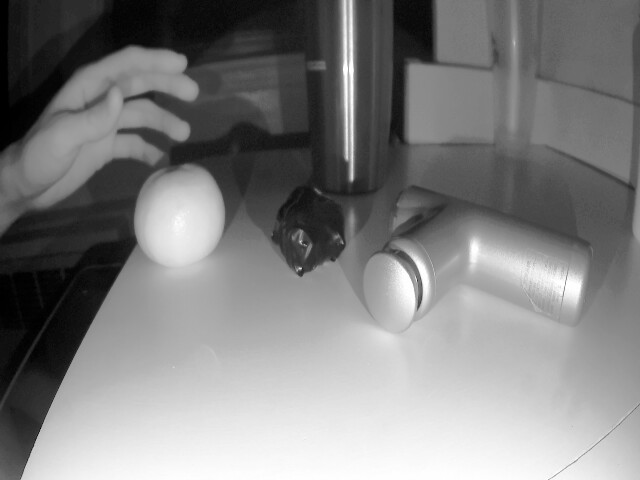black: (275, 185, 360, 283)
